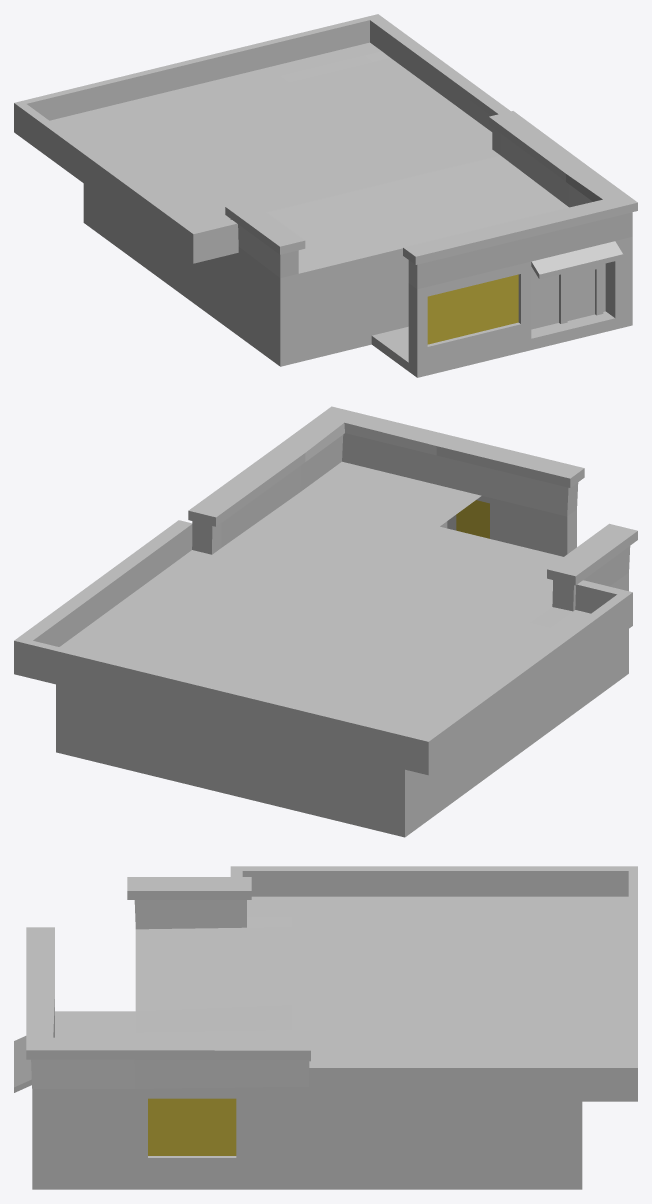
Rendered from Building_Platform01.fbx.
3 views of the same model, one above another, from view 1: azimuth 30°, elevation 25°; view 2: azimuth 150°, elevation 25°; view 3: azimuth 270°, elevation 25° (orthographic). The views are drawn at different scales.
Visible parts, largest first — view 1: Cube.110; view 2: Cube.110; view 3: Cube.110.
Part boxes in pixels (bbox=[...]): Cube.110: bbox=[14, 14, 637, 377]; Cube.110: bbox=[14, 406, 637, 837]; Cube.110: bbox=[14, 866, 637, 1189].
Size of the model in its own units: 1091 by 355 by 1426.
